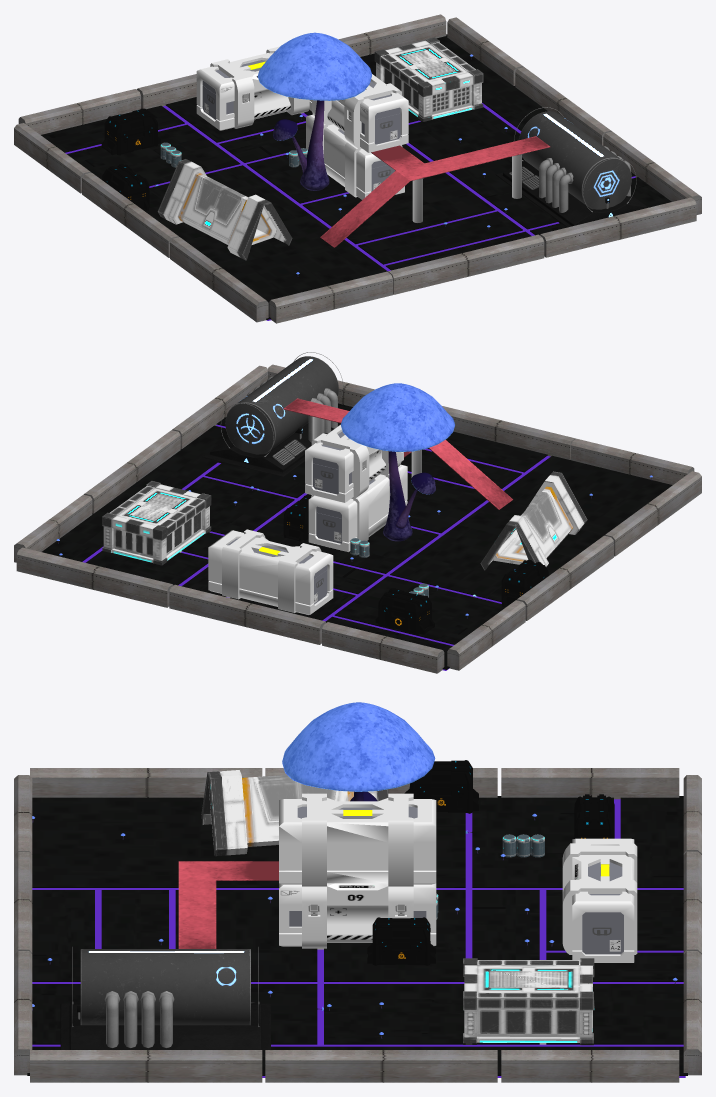
File: Map2.glb
3 renders of one model, top to bottom at view 1: azimuth 30°, elevation 25°; view 2: azimuth 150°, elevation 25°; view 3: azimuth 270°, elevation 25°, orthographic. The views are drawn at different scales.
Visible parts, largest first — view 1: map_Floor, map_wall, map_container, map_tank, map_mush, map_path.001, map_boxes, map_ground.001, map_pillars.001, map_barrels; view 2: map_Floor, map_wall, map_container, map_tank, map_mush, map_boxes, map_ground.001, map_path.001, map_barrels; view 3: map_Floor, map_container, map_wall, map_tank, map_mush, map_boxes, map_ground.001, map_path.001, map_barrels.
Part boxes in pixels (left/top/right/bottom): map_Floor: left=41, top=34, right=671, bottom=319; map_wall: left=14, top=14, right=701, bottom=323; map_container: left=157, top=37, right=483, bottom=260; map_tank: left=495, top=107, right=648, bottom=227; map_mush: left=257, top=32, right=371, bottom=190; map_path.001: left=320, top=136, right=550, bottom=247; map_boxes: left=101, top=108, right=160, bottom=211; map_ground.001: left=65, top=103, right=635, bottom=320; map_pillars.001: left=412, top=153, right=523, bottom=222; map_barrels: left=160, top=142, right=307, bottom=167; map_Floor: left=42, top=403, right=672, bottom=669; map_wall: left=14, top=364, right=701, bottom=673; map_container: left=102, top=424, right=587, bottom=614; map_tank: left=202, top=352, right=343, bottom=476; map_mush: left=340, top=383, right=454, bottom=541; map_boxes: left=283, top=495, right=548, bottom=635; map_ground.001: left=82, top=424, right=550, bottom=670; map_path.001: left=283, top=398, right=512, bottom=509; map_barrels: left=350, top=538, right=428, bottom=597; map_Floor: left=27, top=796, right=687, bottom=1075; map_container: left=201, top=770, right=637, bottom=1045; map_wall: left=14, top=768, right=701, bottom=1082; map_tank: left=60, top=947, right=270, bottom=1057; map_mush: left=282, top=702, right=435, bottom=801; map_boxes: left=367, top=760, right=614, bottom=965; map_ground.001: left=32, top=799, right=685, bottom=1077; map_path.001: left=178, top=861, right=278, bottom=948; map_barrels: left=436, top=834, right=544, bottom=919.
Size of the model in its own units: 6.54 by 2.2 by 6.54.
13 materials, 12 textured.
